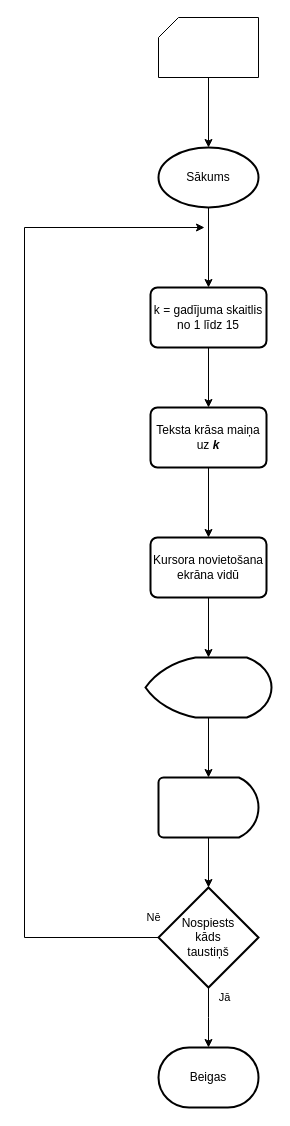
The diagram is 290 pixels wide and 1126 high, and some of its shapes have lost their labels. Each missing label, with the centre of its shape:
"Ogres tehnikums": pixel 208 687
0,5 sekundes: pixel 208 807
k - krāsas kods: pixel 208 47
